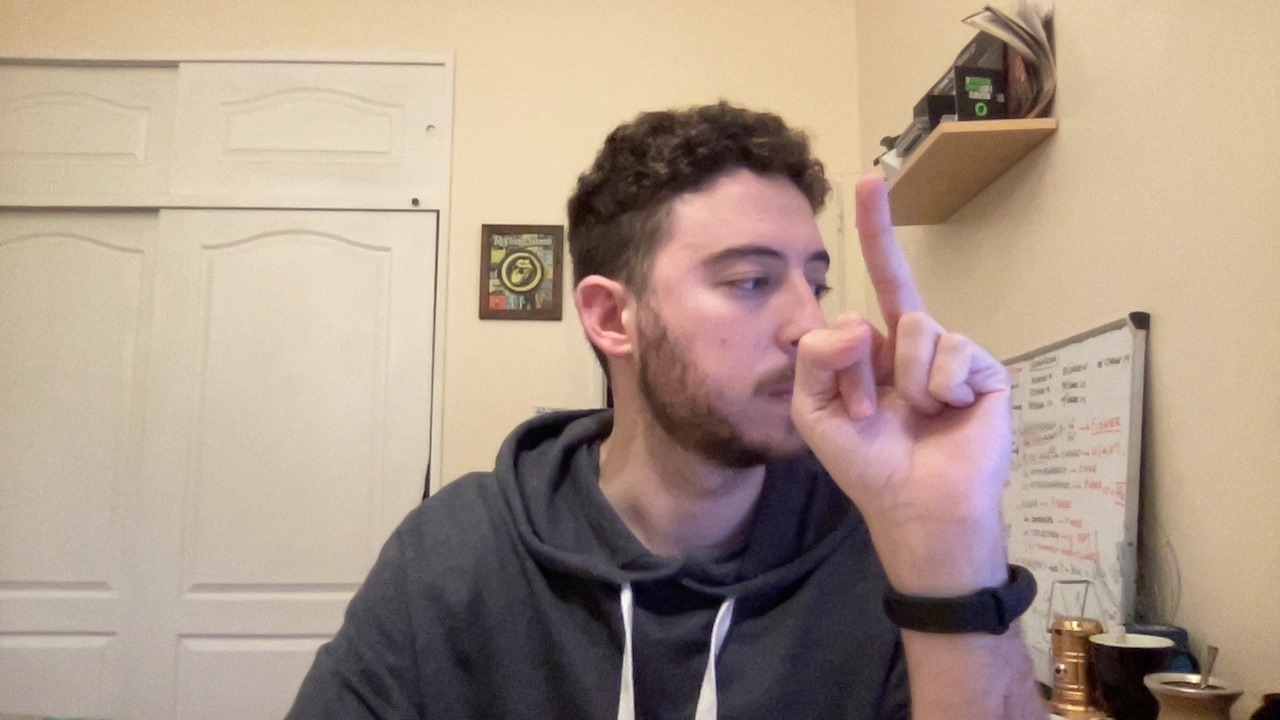mayor: (752, 162, 1038, 562)
